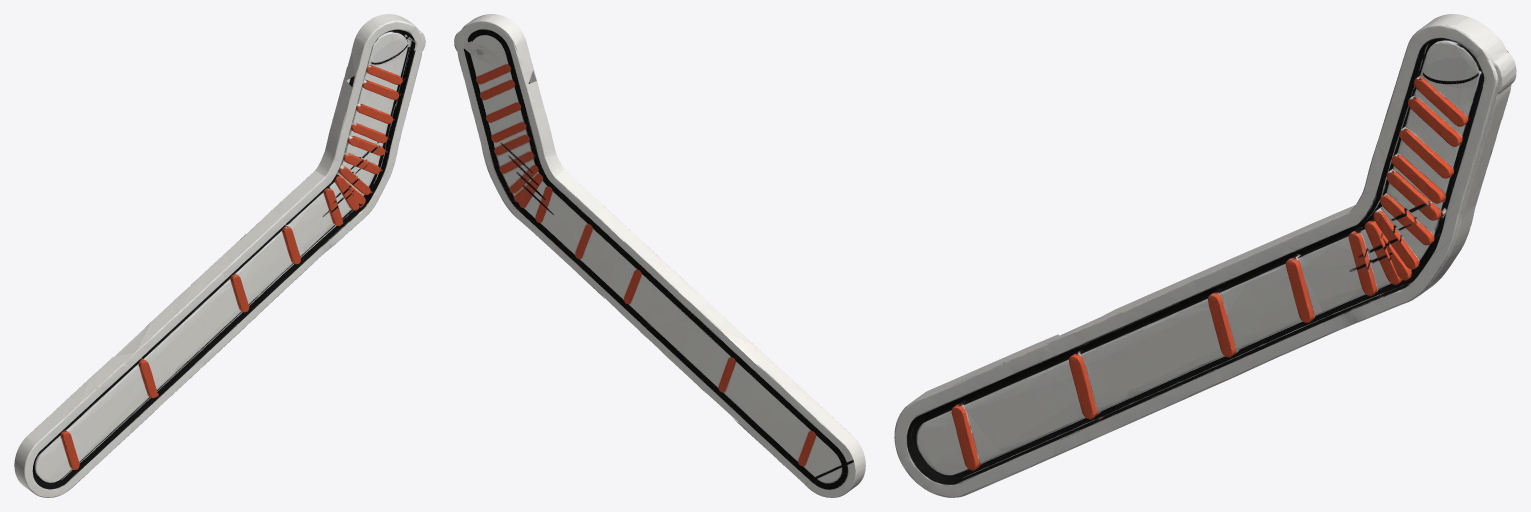
File: pitillo.glb
The picture shows the model from 3 angles, left to right: view 1: azimuth 30°, elevation 25°; view 2: azimuth 150°, elevation 25°; view 3: azimuth 330°, elevation 25°; orthographic projection. The views are drawn at different scales.
Size of the model in its own units: 1.9 by 1.78 by 0.0908.
Materials: 1 (1 with a texture image).
